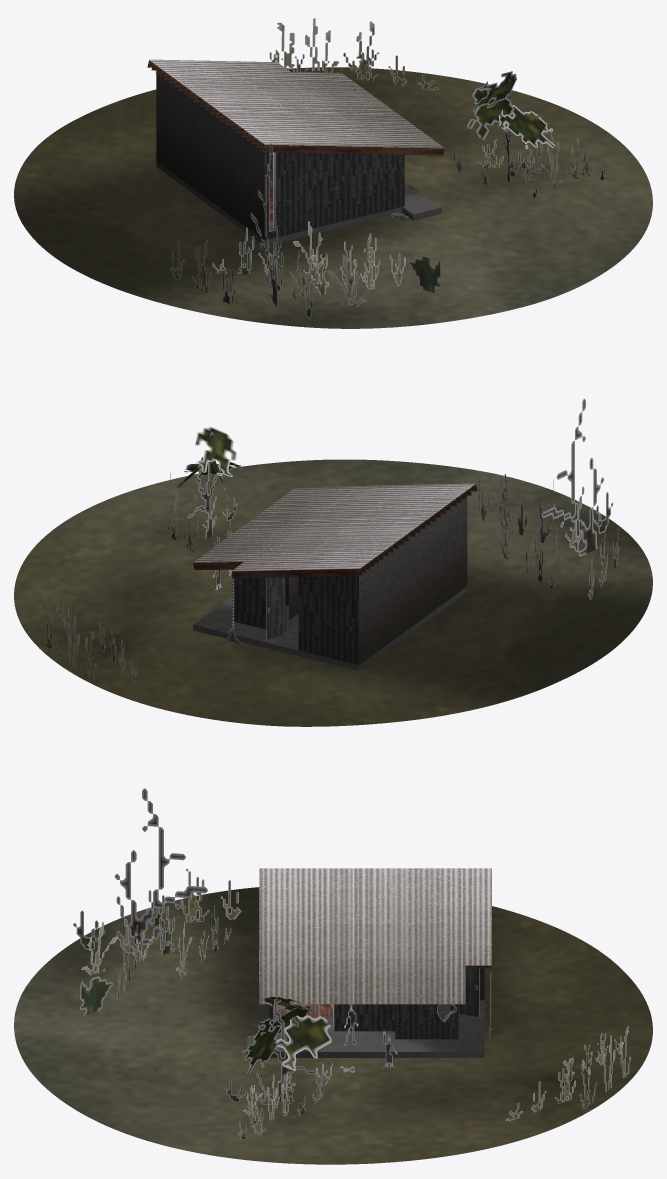
Rendered from shadowhouse.obj.
The picture shows the model from 3 angles, top to bottom: view 1: azimuth 30°, elevation 25°; view 2: azimuth 150°, elevation 25°; view 3: azimuth 270°, elevation 25°; orthographic projection.
Size of the model in its own units: 1000 by 340 by 1000.
1 material, 1 textured.
